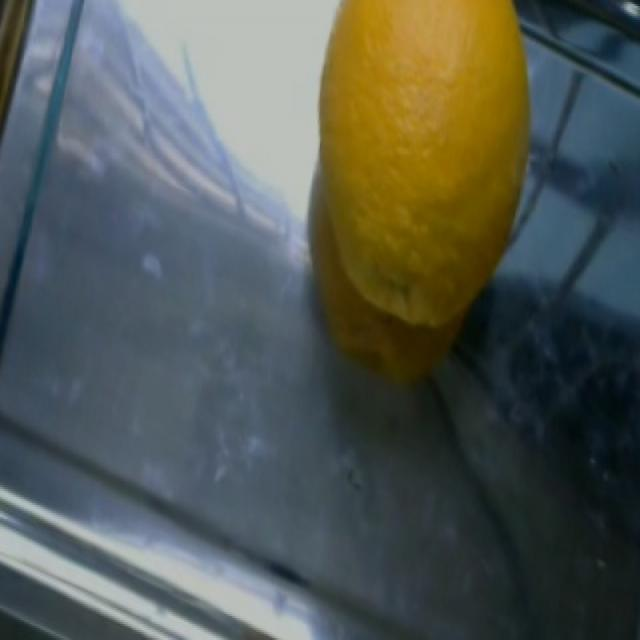Fruit: (290, 0, 558, 314)
